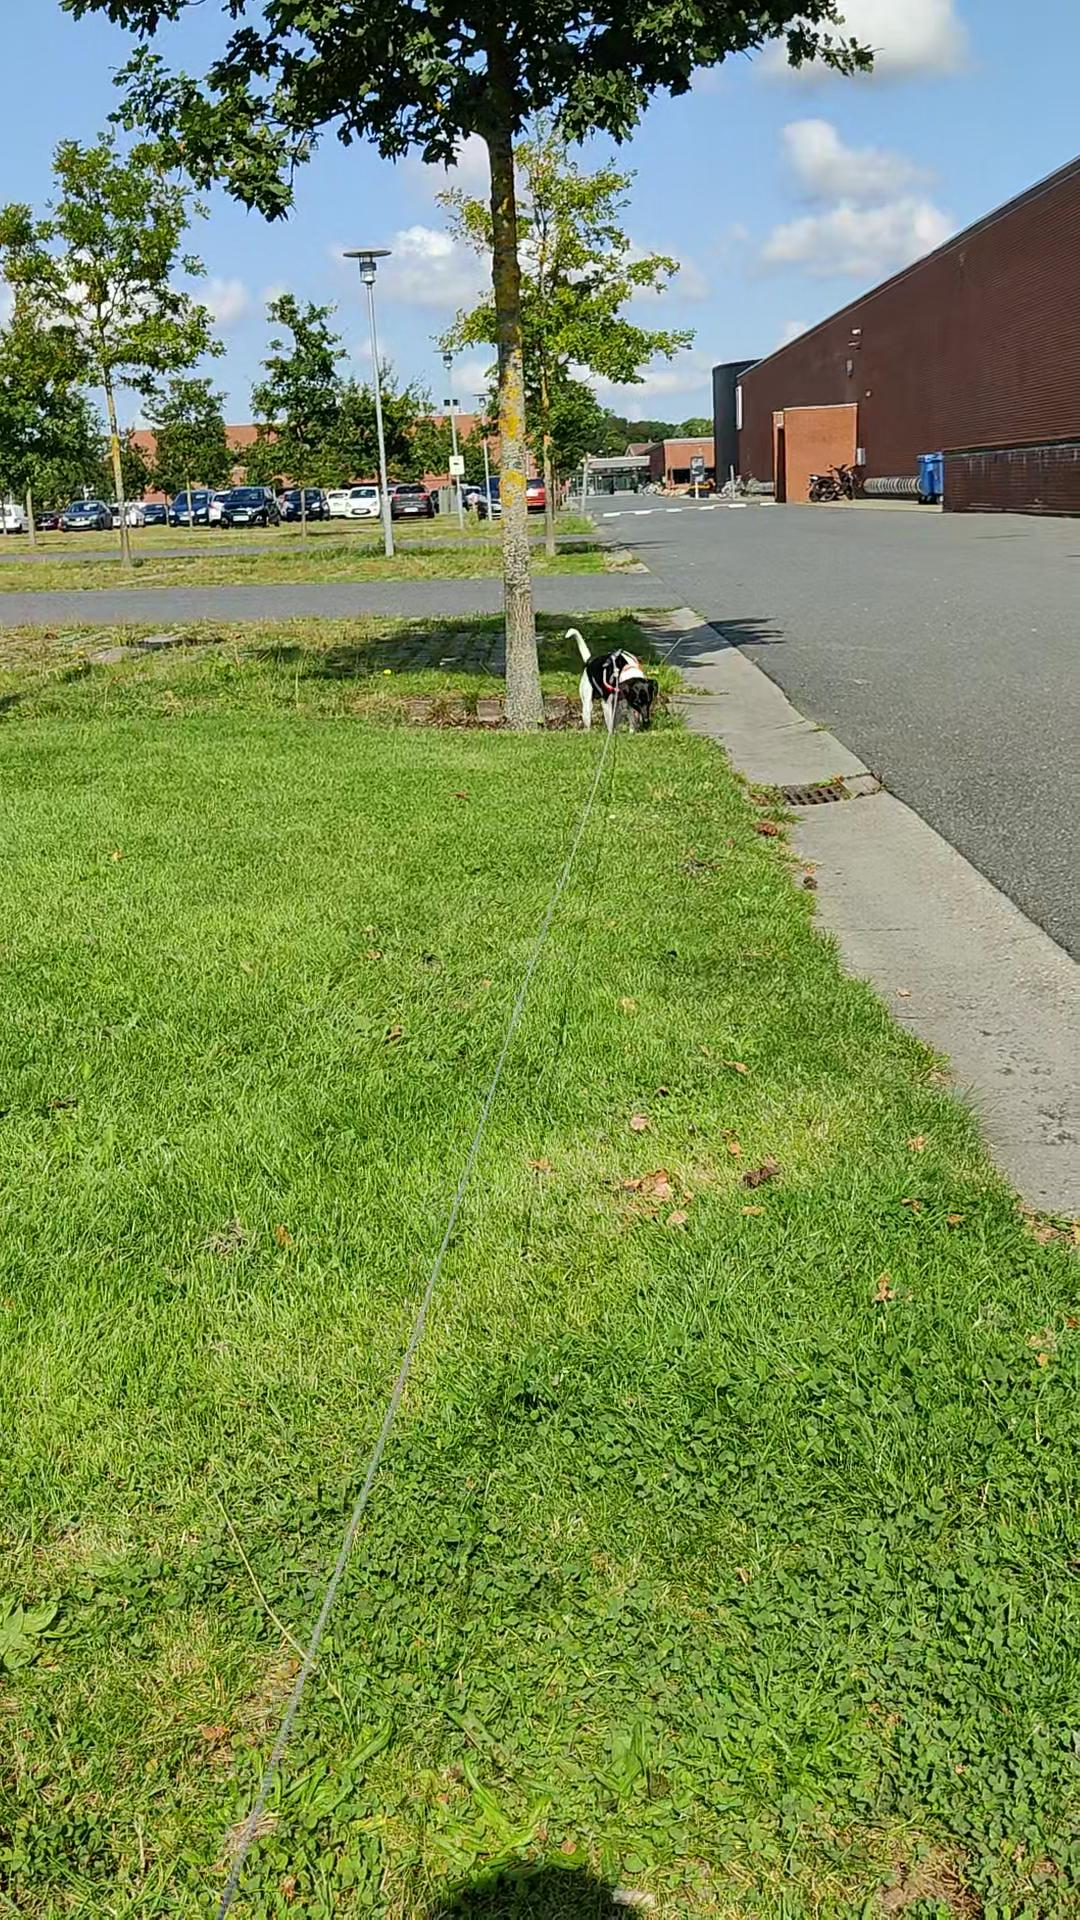Dog: (562, 626, 659, 735)
